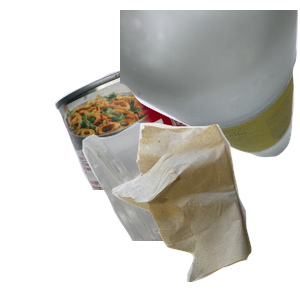glass: (120, 10, 300, 160)
metal: (52, 57, 260, 237)
plastic: (80, 120, 289, 300)
trash: (109, 120, 300, 300)
